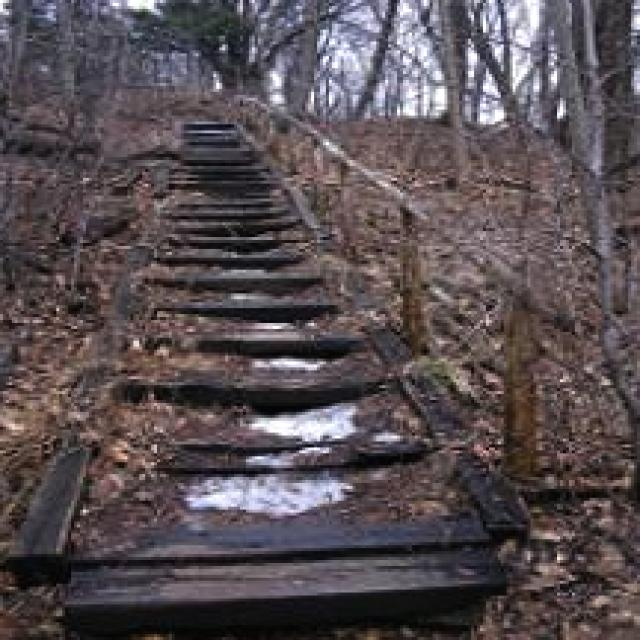upstair: (45, 315, 505, 606)
